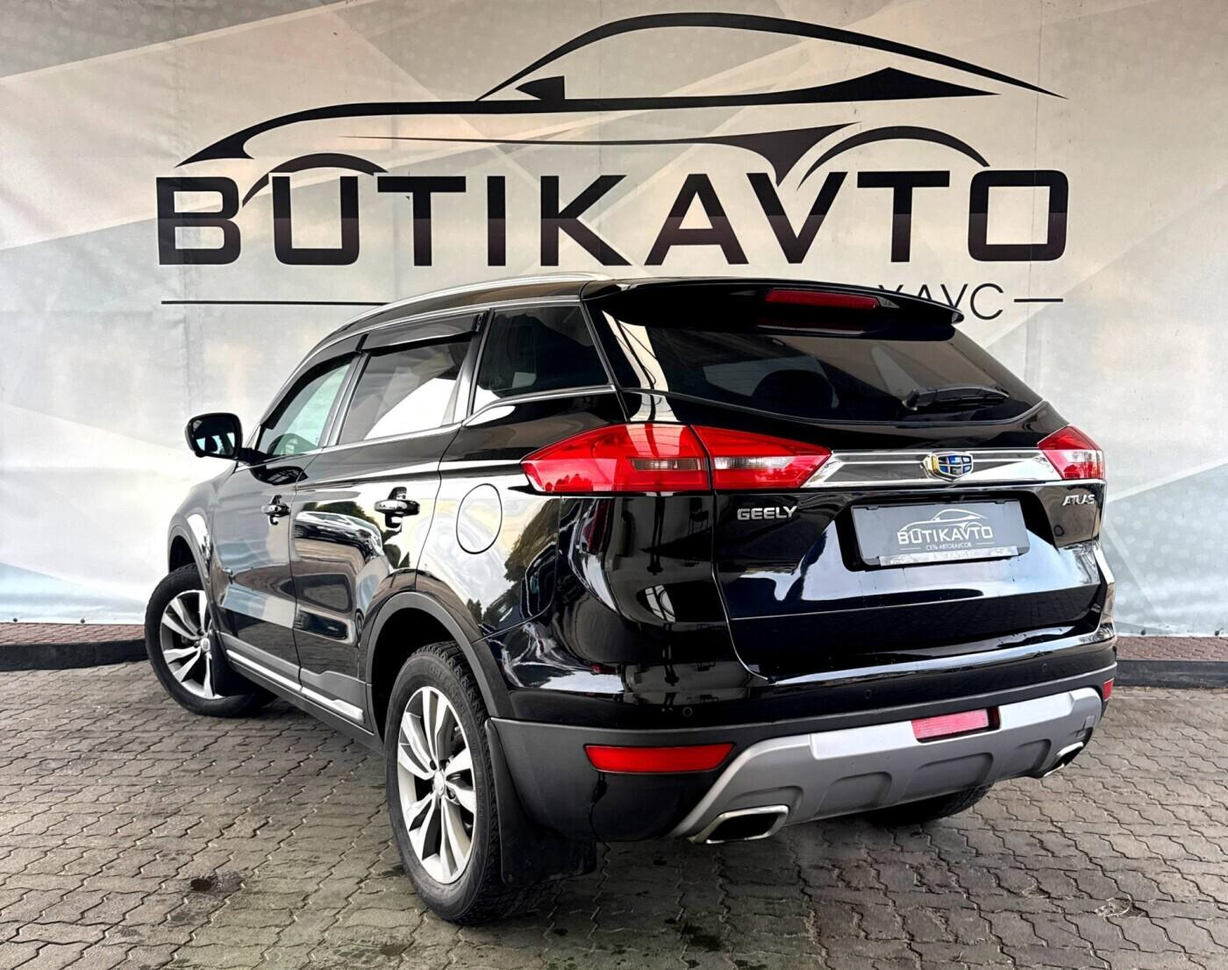Atlas_2016-2023: (139, 266, 1121, 943)
